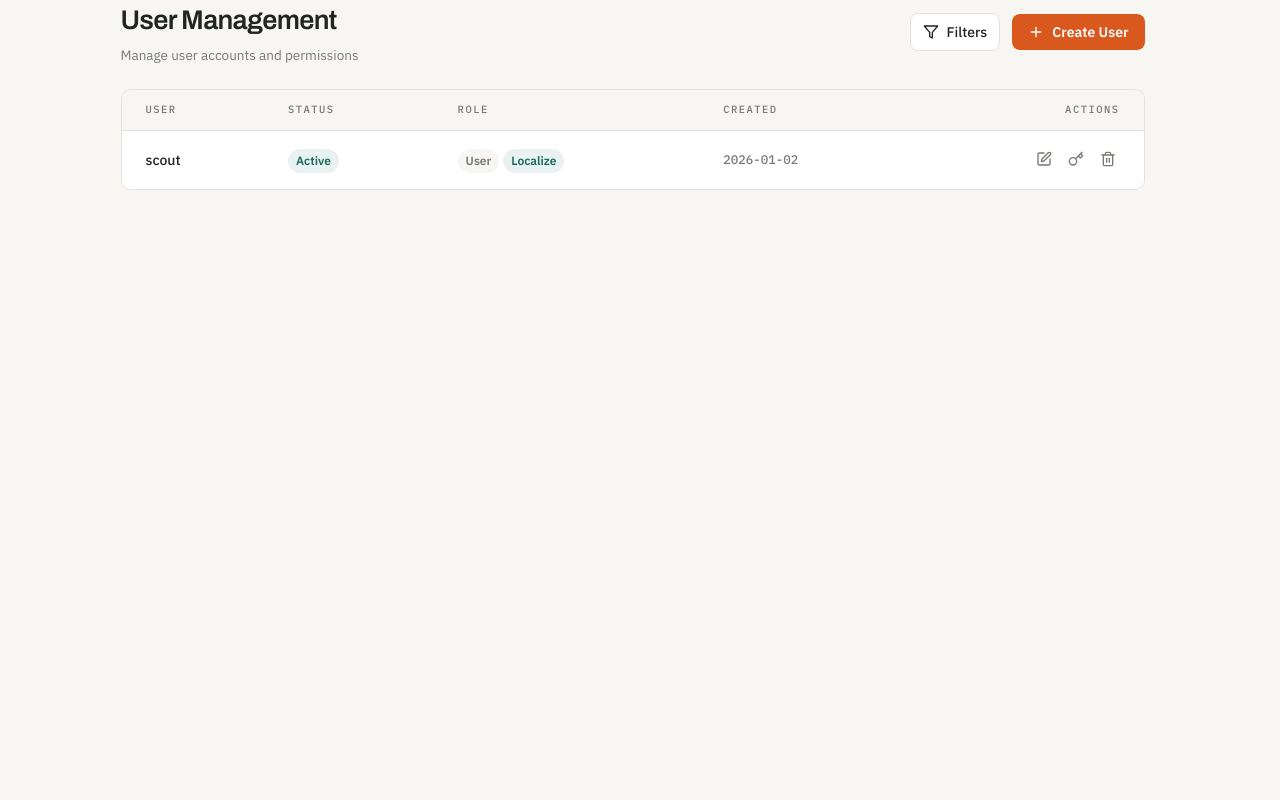
Test: UserManagementPage can_localize › explains each permission toggle in the edit dialog
Click the button titled "Edit user": (1044, 159) [1032,147,1056,171]
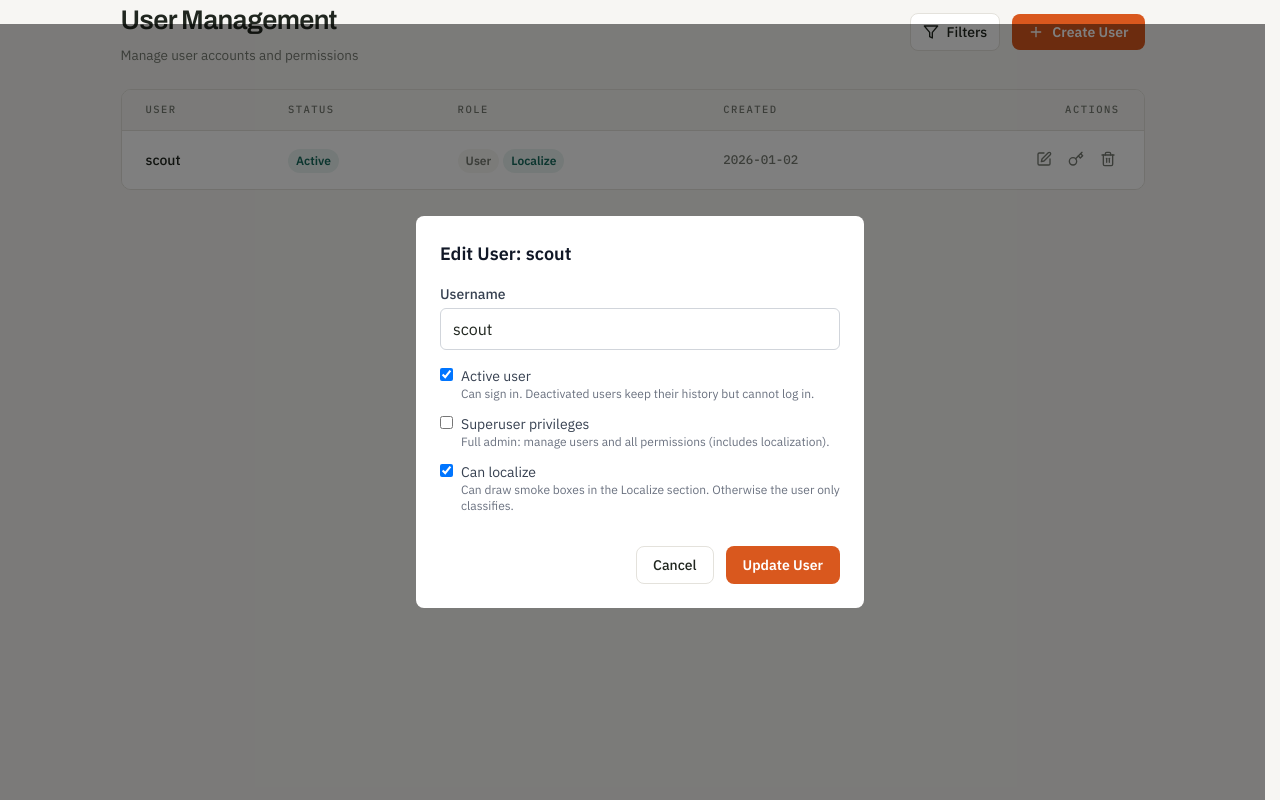
Expected: the text "Can sign in. Deactivated users keep their history but cannot log in." is shown, [461,386,814,402]
Expected: the text "Full admin: manage users and all permissions (includes localization)." is shown, [461,434,830,450]
Expected: the text "Can draw smoke boxes in the Localize section. Otherwise the user only classifies." is shown, [461,482,840,513]
